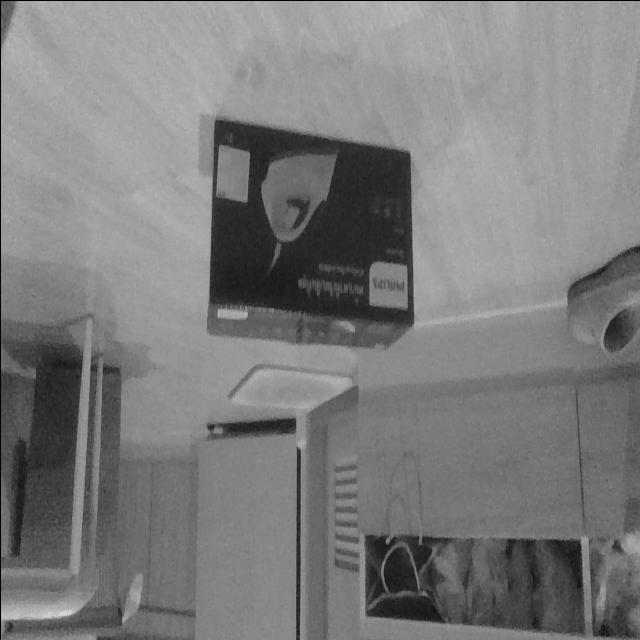IRON: (204, 114, 416, 353)
